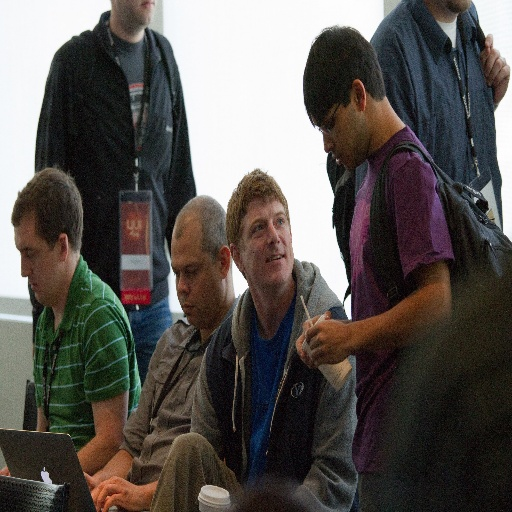hand: (480, 33, 510, 108), (296, 310, 332, 368), (93, 475, 145, 511), (85, 472, 97, 499), (0, 464, 10, 477)
